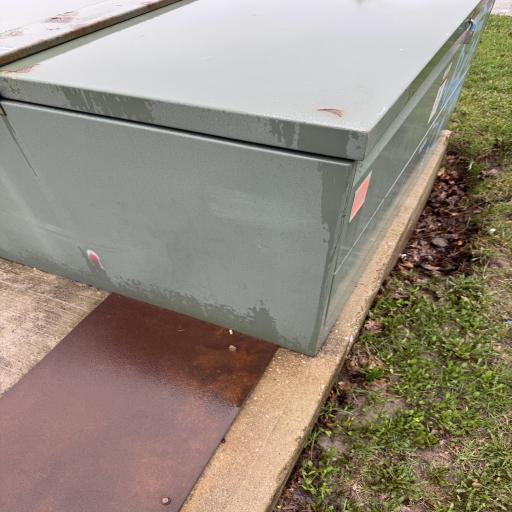Electrical Box: (0, 0, 500, 351)
